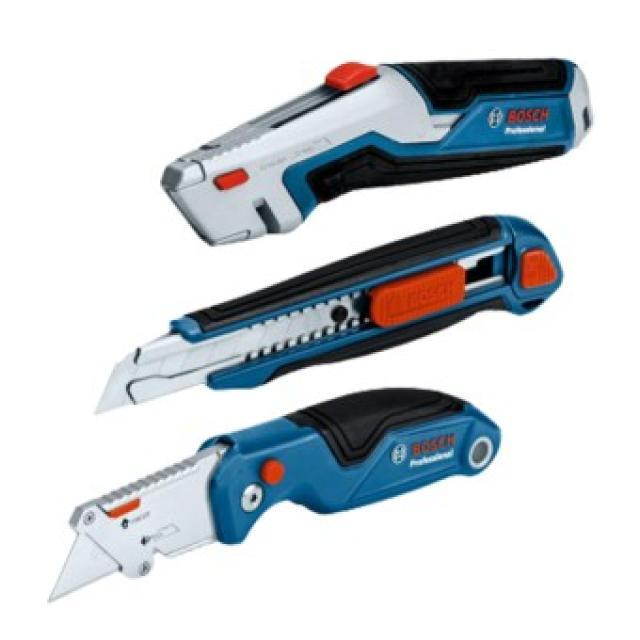cutter: (35, 378, 508, 616), (80, 210, 570, 426), (141, 42, 604, 257)
